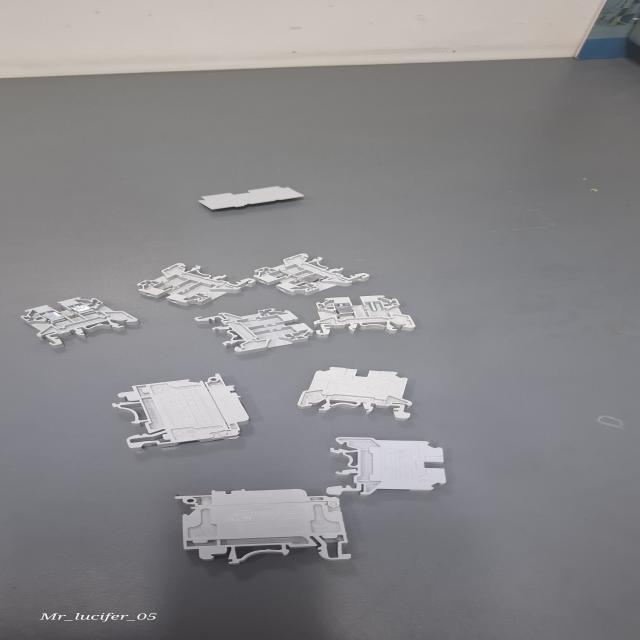Inverted: (326, 435, 448, 499), (296, 366, 421, 422)
Pass: (20, 296, 140, 348)
Reject: (190, 308, 318, 354), (136, 262, 256, 307), (254, 252, 372, 295), (312, 296, 416, 338)
